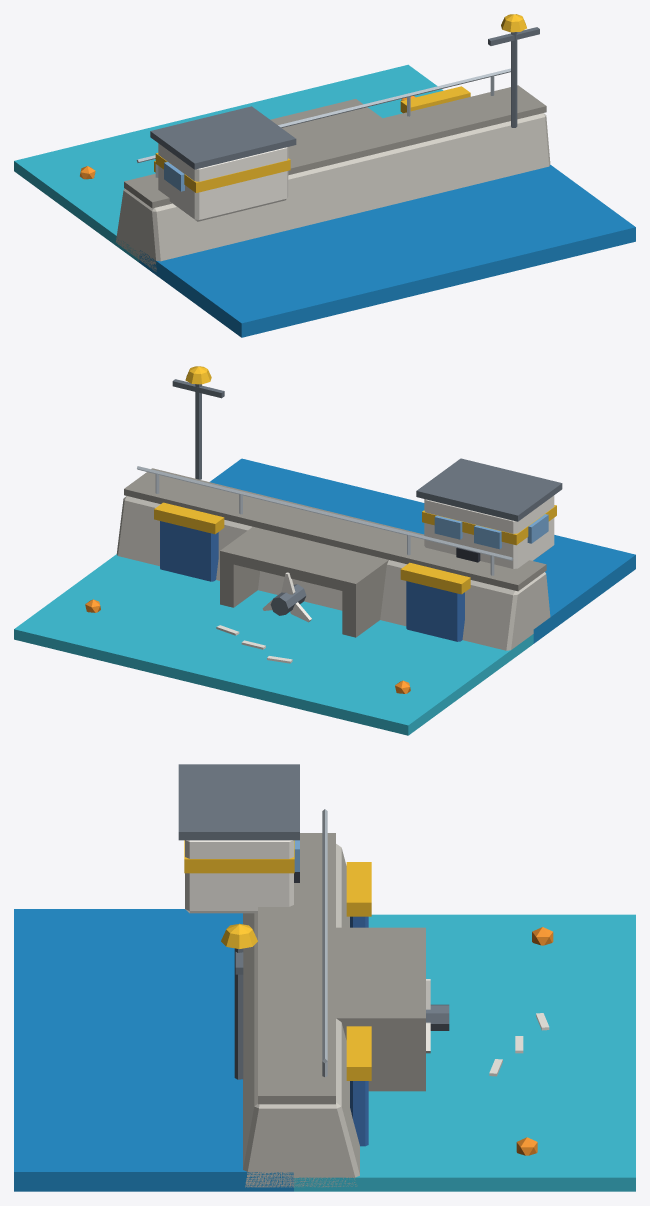
File: tidal_plant.glb
3 views of the same model, one above another, from view 1: azimuth 30°, elevation 25°; view 2: azimuth 150°, elevation 25°; view 3: azimuth 270°, elevation 25° (orthographic). The views are drawn at different scales.
Parts seen in each view (by area): view 1: corpo; view 2: corpo; view 3: corpo.
Boxes of the visible parts, <box> form: corpo: <box>14,14,635,337</box>; corpo: <box>14,366,635,735</box>; corpo: <box>14,764,635,1191</box>.
Bounding box in the file's own units: 4 × 1.71 × 4.
